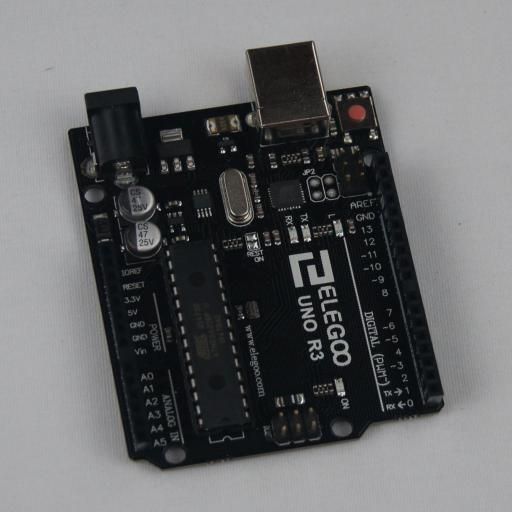Arduino Uno -Black-: (68, 41, 444, 471)
